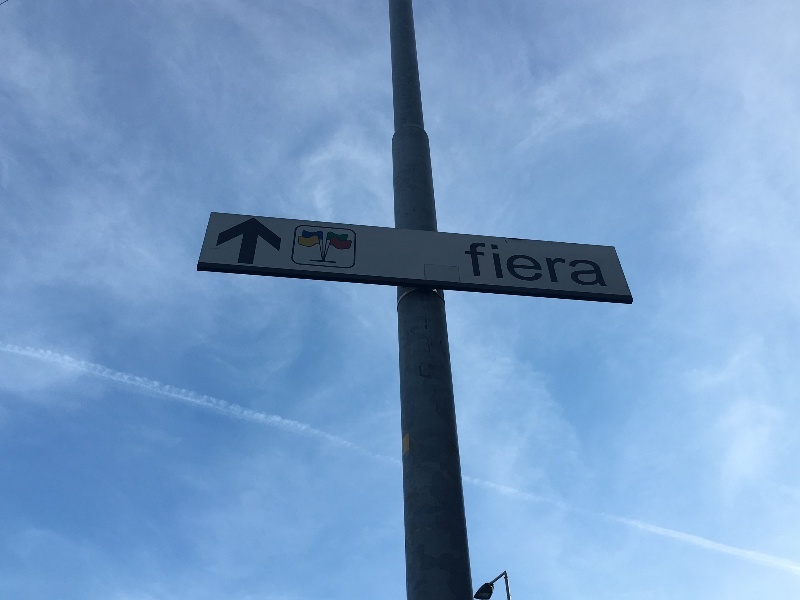text: (465, 242, 480, 287), (481, 242, 496, 287), (497, 242, 512, 287), (513, 242, 528, 287), (529, 242, 544, 287), (545, 242, 560, 287), (561, 242, 576, 287), (577, 242, 592, 287), (593, 242, 607, 287)
